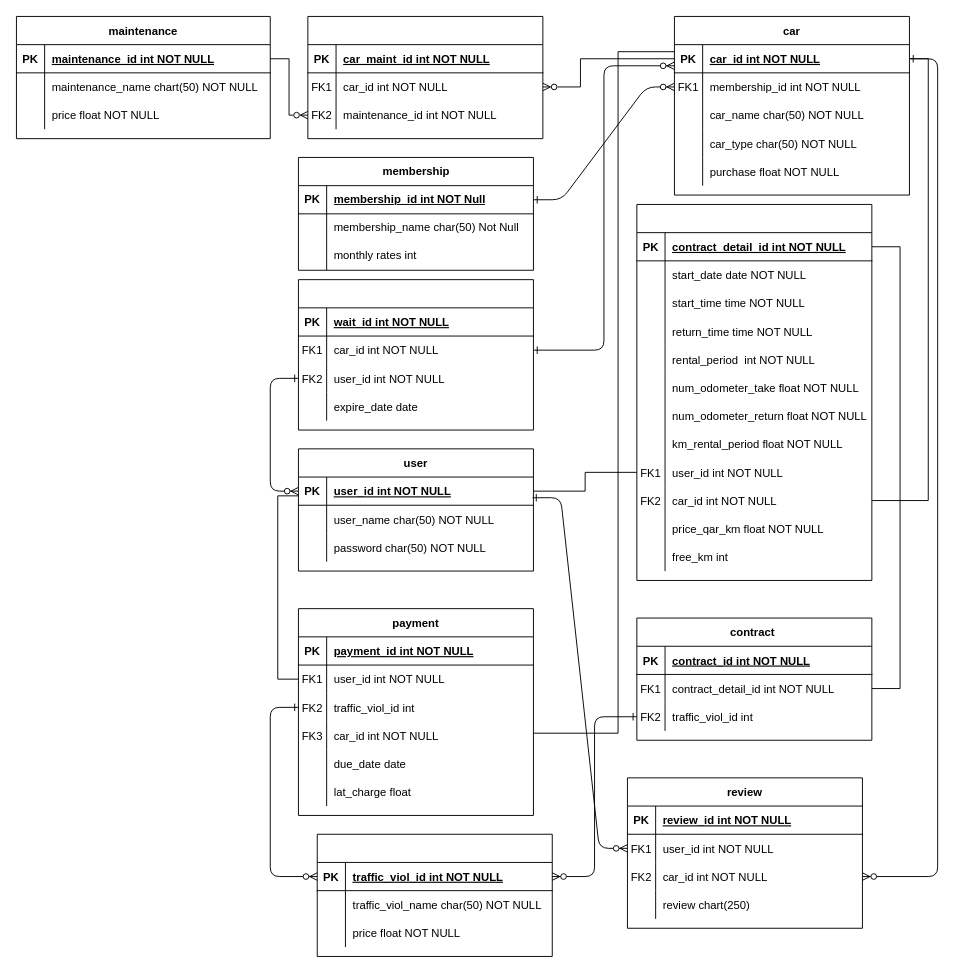
Some shapes in this 963 by 973 pixel diagram are drawn without their labels. Each missing label, with the box of its shape:
car maintenance: (307, 16, 543, 139)
contract details: (636, 204, 872, 580)
traffic violatiion: (316, 833, 552, 956)
waiting list: (298, 279, 533, 430)
